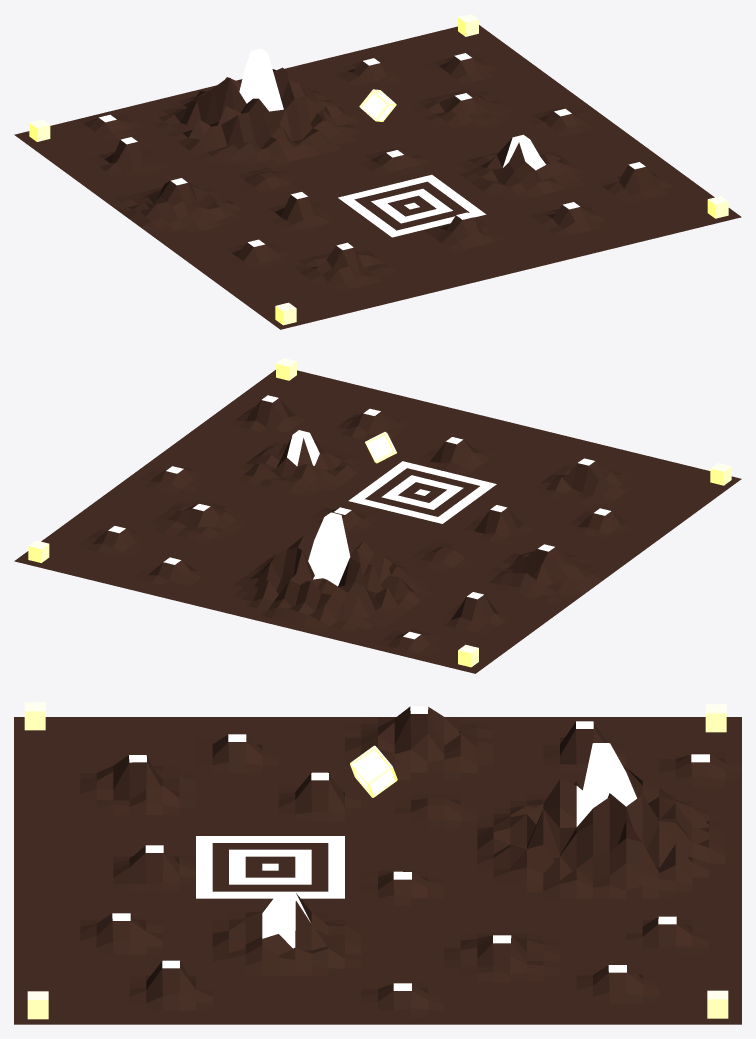
File: Level 2 - Cube world 2.glb
3 views of the same model, one above another, from view 1: azimuth 30°, elevation 25°; view 2: azimuth 150°, elevation 25°; view 3: azimuth 270°, elevation 25° (orthographic). The views are drawn at different scales.
Parts seen in each view (by area): view 1: Plane, Cube sun; view 2: Plane, Cube sun; view 3: Plane, Cube sun, Cube guard 3, Cube guard 2, Cube guard, Cube guard 4.
Part boxes in pixels (<box>): Plane: <box>14,25,741,329</box>; Cube sun: <box>359,89,396,121</box>; Plane: <box>14,370,741,673</box>; Cube sun: <box>365,432,396,463</box>; Plane: <box>14,706,741,1024</box>; Cube sun: <box>350,745,397,797</box>; Cube guard 3: <box>705,704,726,732</box>; Cube guard 2: <box>707,990,728,1018</box>; Cube guard: <box>27,991,48,1019</box>; Cube guard 4: <box>24,702,45,730</box>.
Bounding box in the file's own units: 214 × 39.34 × 214.
